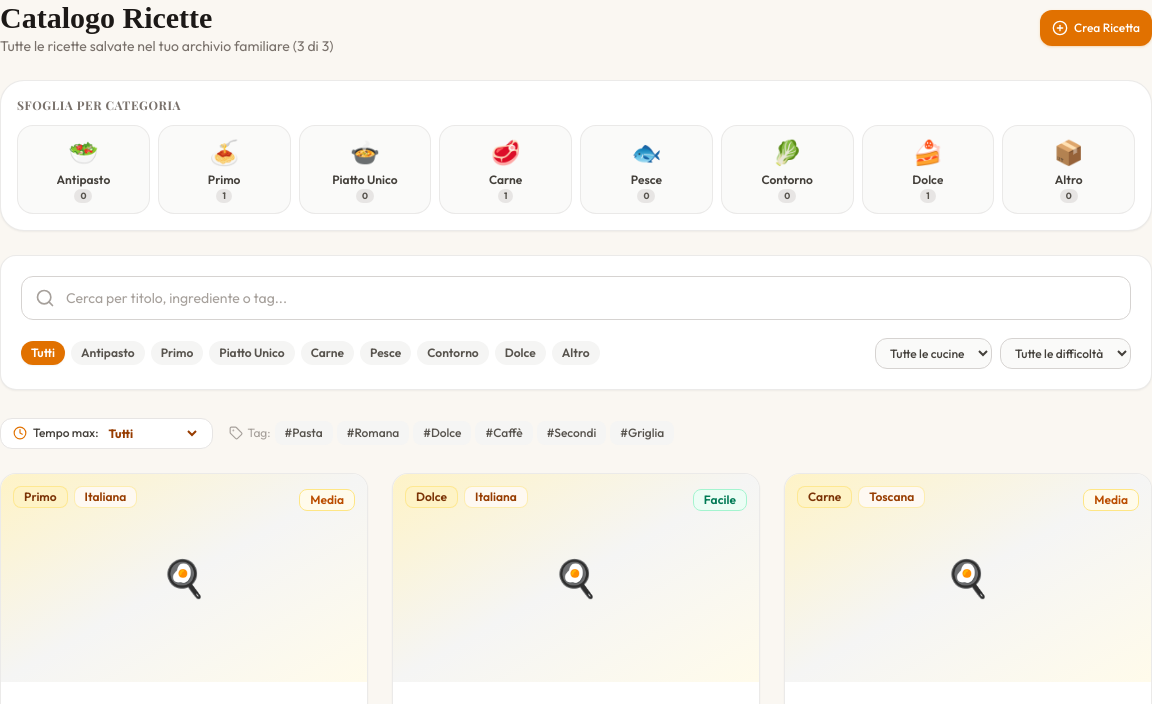
Test case: C. TEST COMPONENTI & STATO - CatalogPage & Search › filtra correttamente per ingrediente secondario con badge "Contiene:"
Step 1. Type "Guanciale" into the field with placeholder "Cerca per titolo, ingrediente o tag..." → (576,298), box [21,276,1131,320]
(page scrolled)
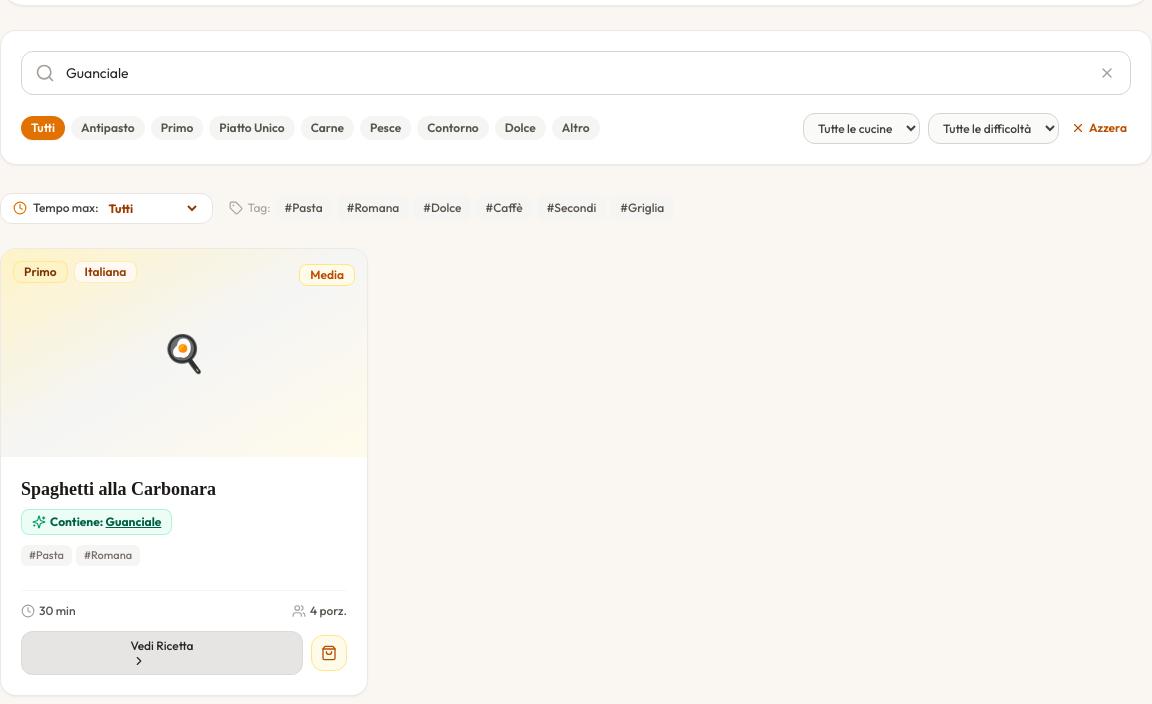
Expected: the heading "Spaghetti alla Carbonara" is shown, [21,478,216,498]
Expected: the text "Contiene: Guanciale" is shown, [50,514,161,530]
